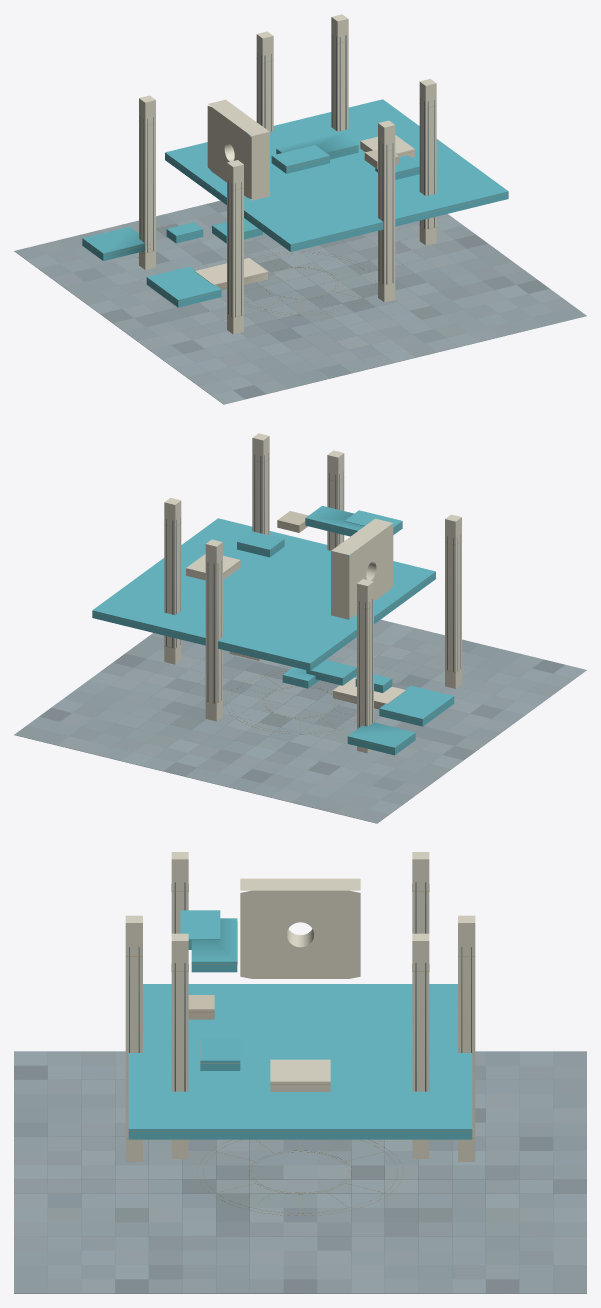
Rendered from 01_world.glb.
3 views of the same model, one above another, from view 1: azimuth 30°, elevation 25°; view 2: azimuth 150°, elevation 25°; view 3: azimuth 270°, elevation 25° (orthographic). The views are drawn at different scales.
Parts seen in each view (by area): view 1: world_11_floor_noshadow_nocol, world_11_foam_nocol, world_01_floor_noshadow_nocol, world_00_floor_noshadow_nocol, world_00_body_nocol, world_11_body_nocol, world_10_floor_noshadow_nocol, world_01_foam_nocol, world_01_body_nocol, world_10_body_nocol, world_00_foam_nocol, world_11_panel_noshadow_nocol (+4 smaller); view 2: world_11_foam_nocol, world_10_floor_noshadow_nocol, world_00_floor_noshadow_nocol, world_01_floor_noshadow_nocol, world_11_floor_noshadow_nocol, world_00_body_nocol, world_10_body_nocol, world_11_body_nocol, world_01_body_nocol, world_01_foam_nocol, world_00_foam_nocol, world_10_panel_noshadow_nocol (+3 smaller); view 3: world_11_foam_nocol, world_11_floor_noshadow_nocol, world_10_floor_noshadow_nocol, world_01_floor_noshadow_nocol, world_00_floor_noshadow_nocol, world_00_body_nocol, world_11_body_nocol, world_10_body_nocol, world_01_foam_nocol, world_11_trim_noshadow_nocol, world_01_body_nocol, world_10_panel_noshadow_nocol (+1 smaller).
Part boxes in pixels (<box>): world_11_floor_noshadow_nocol: <box>284,234,586,362</box>; world_11_foam_nocol: <box>165,99,508,251</box>; world_01_floor_noshadow_nocol: <box>113,281,404,404</box>; world_00_floor_noshadow_nocol: <box>14,209,289,327</box>; world_00_body_nocol: <box>139,95,269,269</box>; world_11_body_nocol: <box>360,78,436,302</box>; world_10_floor_noshadow_nocol: <box>185,200,475,281</box>; world_01_foam_nocol: <box>146,133,358,307</box>; world_01_body_nocol: <box>194,160,267,334</box>; world_10_body_nocol: <box>256,14,348,131</box>; world_00_foam_nocol: <box>82,218,262,260</box>; world_11_panel_noshadow_nocol: <box>379,98,434,284</box>; world_11_foam_nocol: <box>92,518,435,670</box>; world_10_floor_noshadow_nocol: <box>14,662,304,781</box>; world_00_floor_noshadow_nocol: <box>196,705,481,823</box>; world_01_floor_noshadow_nocol: <box>305,628,586,750</box>; world_11_floor_noshadow_nocol: <box>113,619,415,709</box>; world_00_body_nocol: <box>331,518,393,753</box>; world_10_body_nocol: <box>164,497,261,721</box>; world_11_body_nocol: <box>186,433,344,580</box>; world_01_body_nocol: <box>333,514,461,709</box>; world_01_foam_nocol: <box>305,505,454,726</box>; world_00_foam_nocol: <box>282,660,415,755</box>; world_10_panel_noshadow_nocol: <box>166,517,221,703</box>; world_11_foam_nocol: <box>128,984,472,1139</box>; world_11_floor_noshadow_nocol: <box>14,1165,317,1293</box>; world_10_floor_noshadow_nocol: <box>300,1165,586,1293</box>; world_01_floor_noshadow_nocol: <box>14,1051,317,1171</box>; world_00_floor_noshadow_nocol: <box>317,1051,586,1171</box>; world_00_body_nocol: <box>240,852,429,978</box>; world_11_body_nocol: <box>125,915,330,1161</box>; world_10_body_nocol: <box>412,915,475,1161</box>; world_01_foam_nocol: <box>180,910,237,972</box>; world_11_trim_noshadow_nocol: <box>126,956,471,1215</box>; world_01_body_nocol: <box>171,852,188,933</box>; world_10_panel_noshadow_nocol: <box>415,947,471,1091</box>.
Size of the model in its own units: 200 by 112 by 200.
